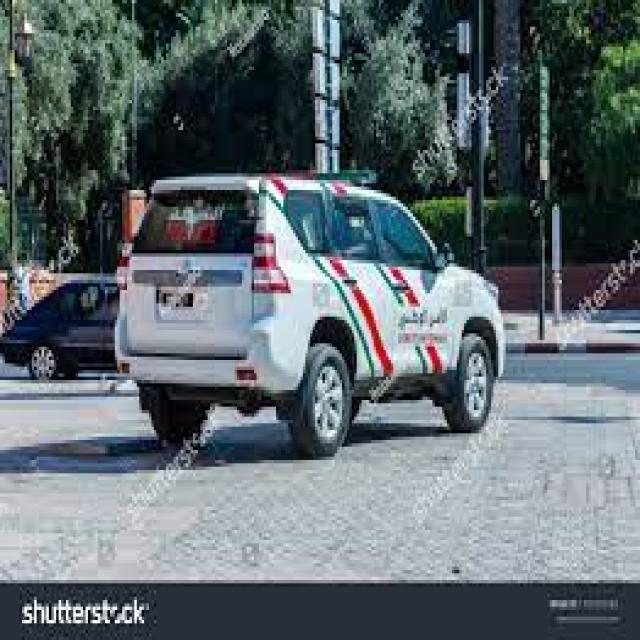Police car: (108, 156, 514, 464)
